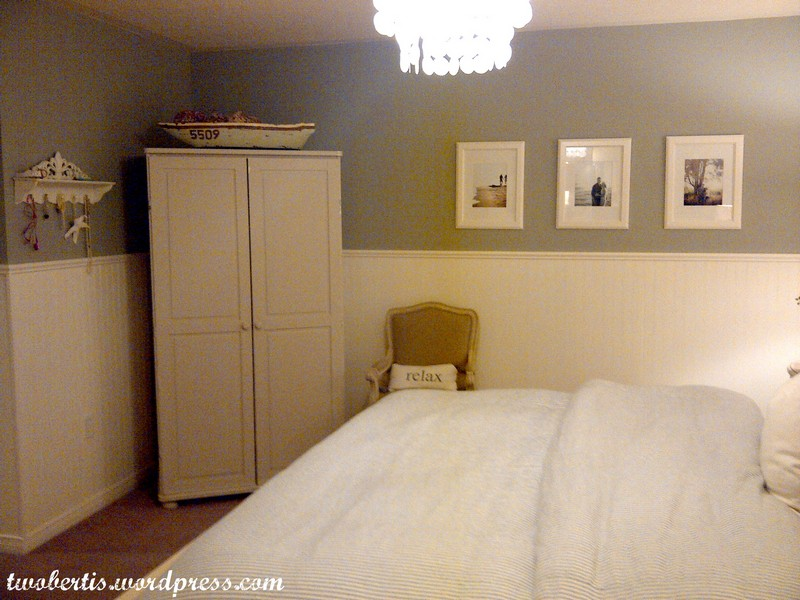bed: (120, 369, 797, 596)
chair: (363, 299, 483, 416)
